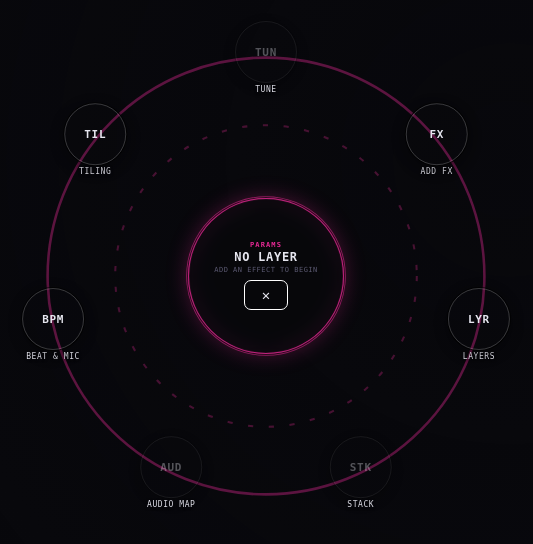
Test: ParamWheel › gives the effect catalogue the outer ring, at roughly twice the density
Click the menu item "FX" at (437, 134), box [406,103,468,165]
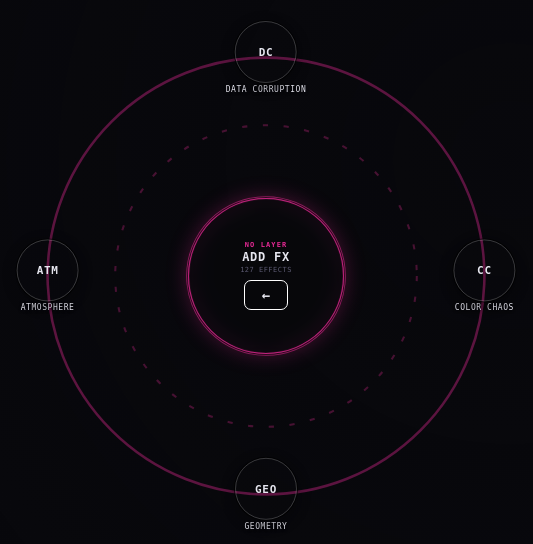
Click the menu item "DC" at (266, 52), box [235,21,297,83]
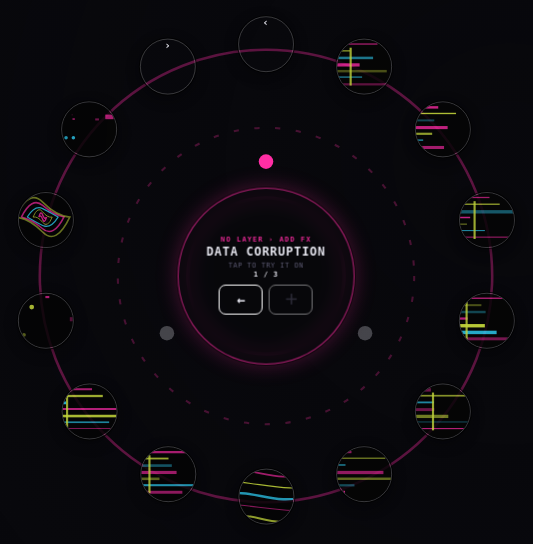
Expected: the text "1 / 3" is shown, [254,272,278,279]
